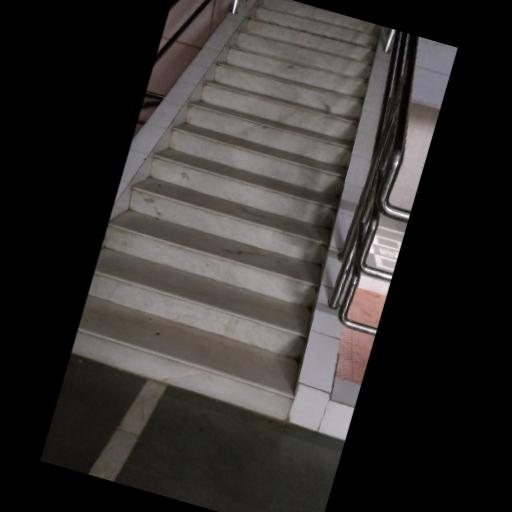stairs: (74, 0, 381, 419)
